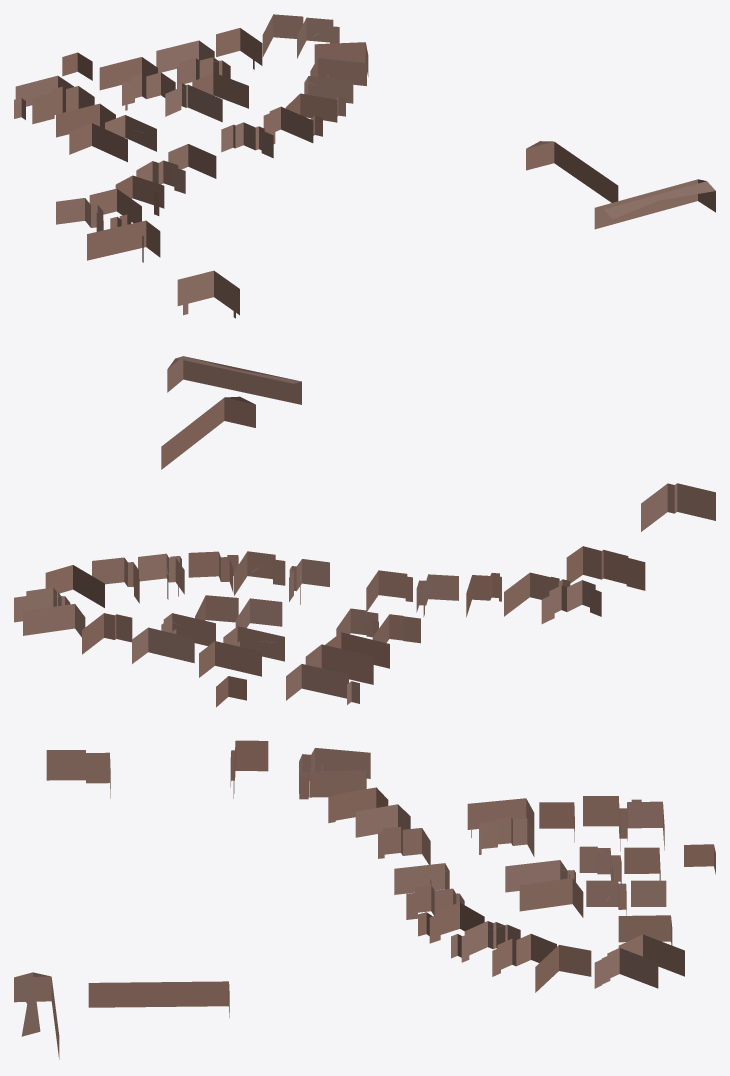
The model's file is c_1641_17836_buildings_residential.glb.
3 views of the same model, one above another, from view 1: azimuth 30°, elevation 25°; view 2: azimuth 150°, elevation 25°; view 3: azimuth 270°, elevation 25° (orthographic). The views are drawn at different scales.
Visible parts, largest first — view 1: geometry_0; view 2: geometry_0; view 3: geometry_0.
Boxes of the visible parts, x1,y1,x2,y2 form: geometry_0: (14,14,715,318); geometry_0: (14,356,715,707); geometry_0: (14,740,715,1059).
Bounding box in the file's own units: 226 × 11.08 × 231.
